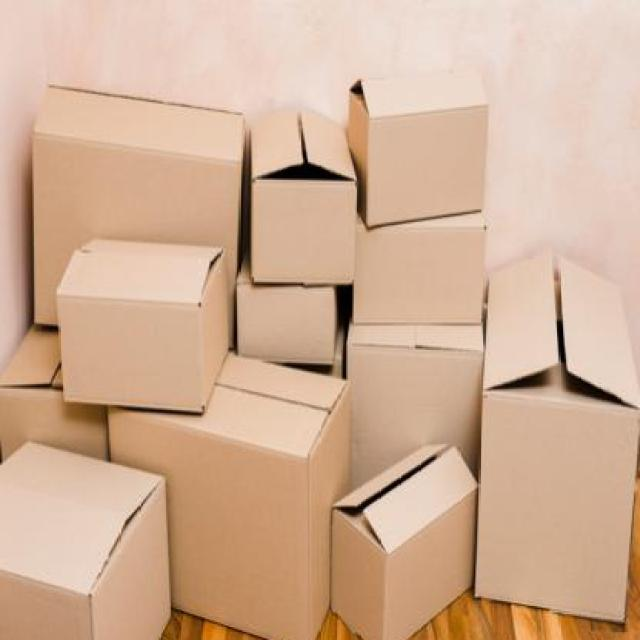box: (106, 355, 339, 640), (474, 241, 638, 640), (30, 91, 248, 311), (0, 429, 180, 640), (48, 238, 227, 408), (331, 442, 475, 640), (354, 58, 495, 235), (344, 324, 488, 476), (249, 99, 356, 287), (350, 212, 488, 331), (0, 320, 102, 454), (228, 274, 339, 372)
